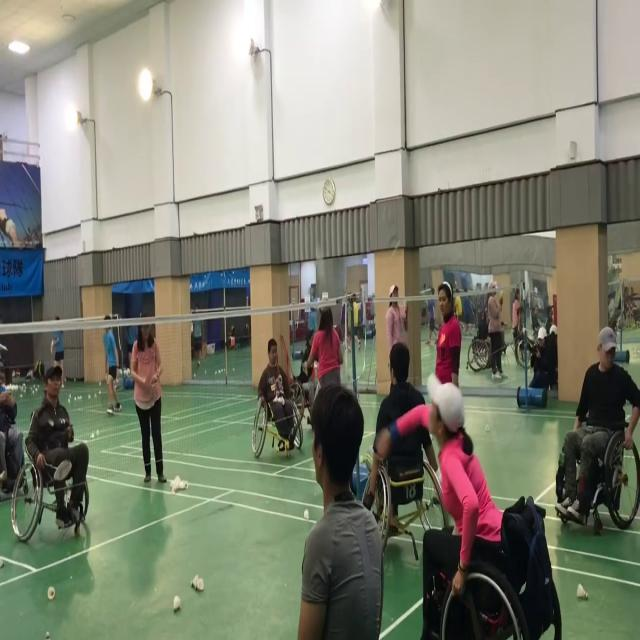wheelchairs: (421, 491, 570, 640), (553, 403, 640, 541), (357, 445, 446, 553), (8, 433, 92, 547), (248, 379, 308, 463), (463, 319, 508, 382)
